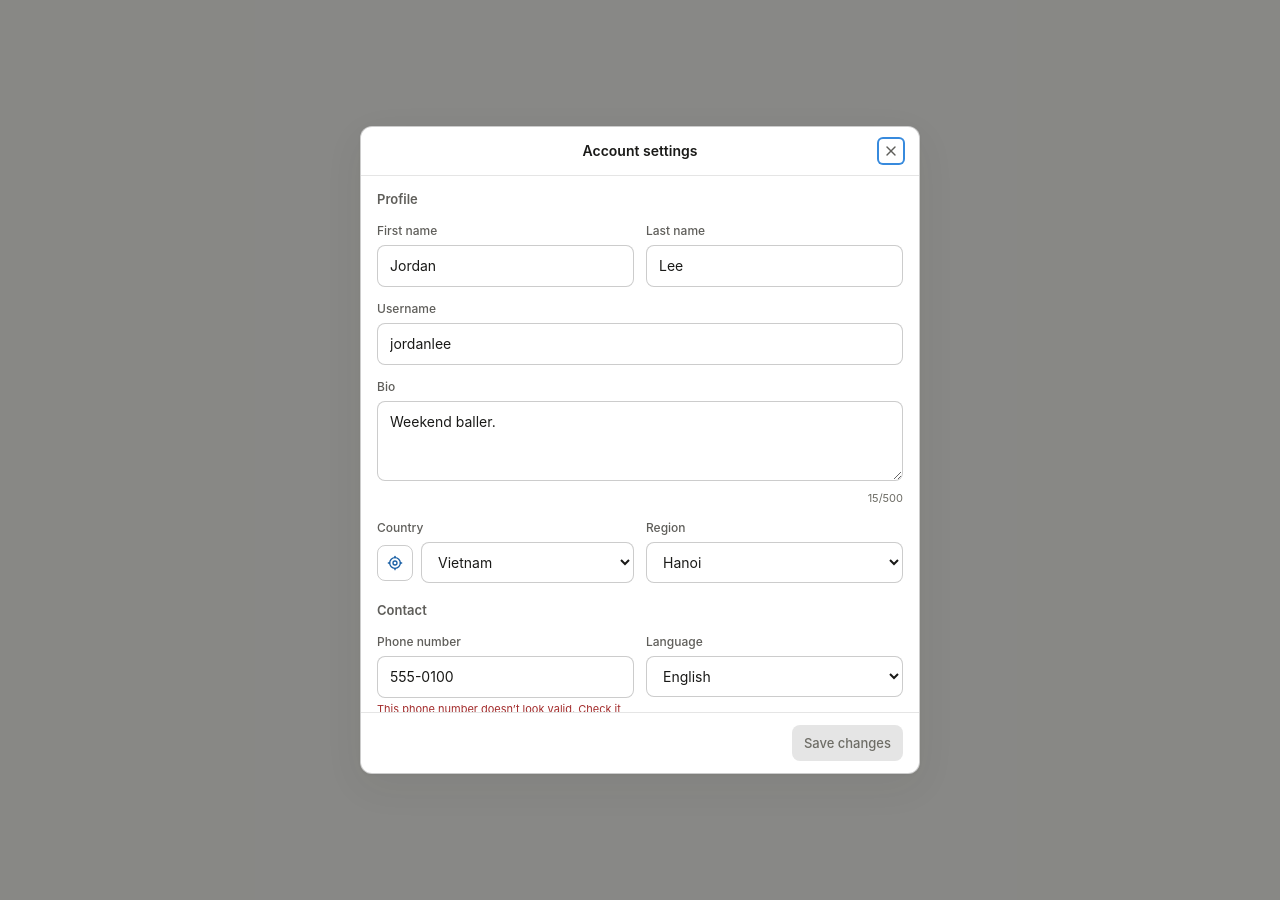
Test: AccountSettingsModal › CLIENT-REF-3: Country / Region / Language › hints that a saved phone is invalid (U25), and drops the hint once the field is edited
Type "1" into the field labelled "Phone number" at (506, 677), box [377,656,634,698]
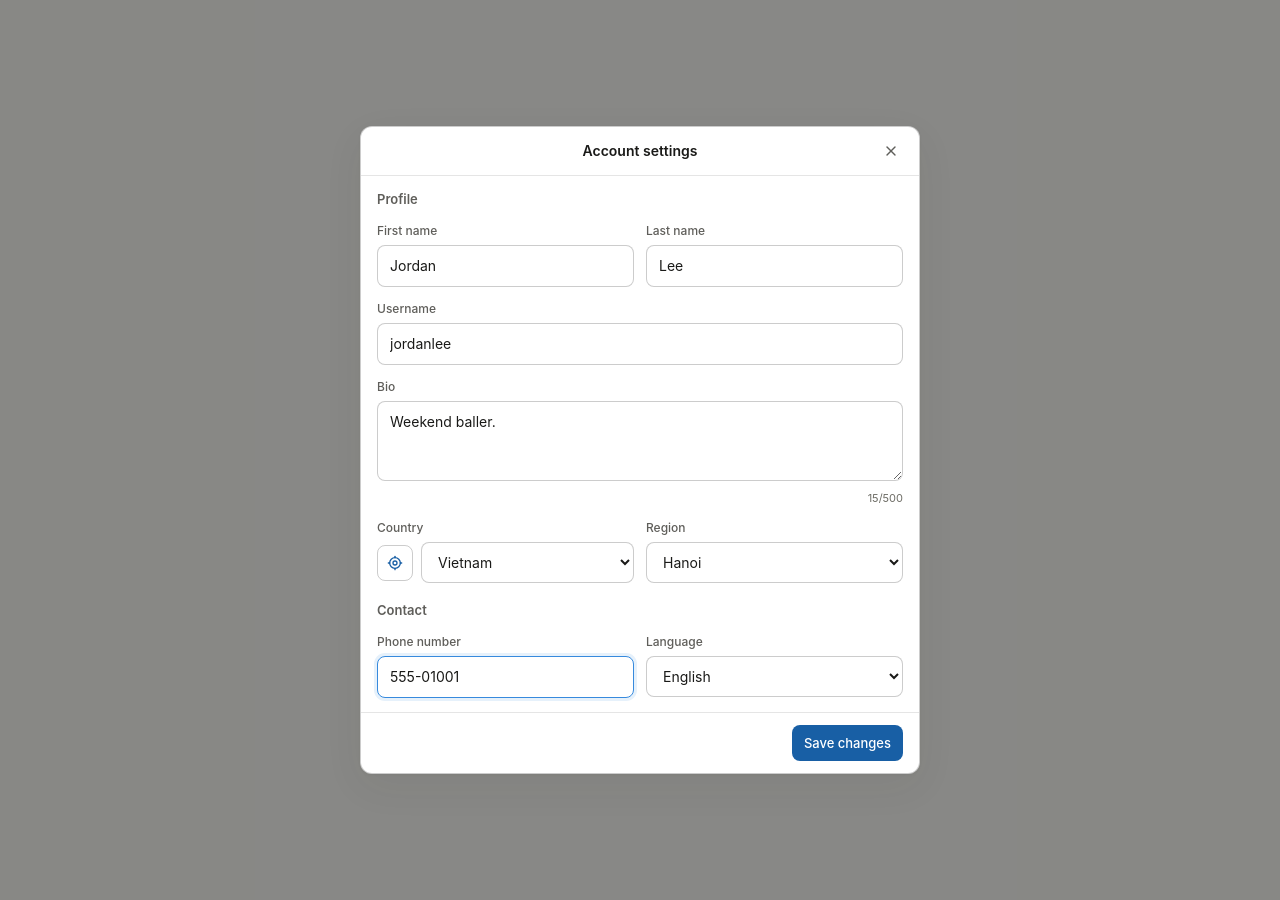
Expected: the text "doesn’t look valid" is gone
